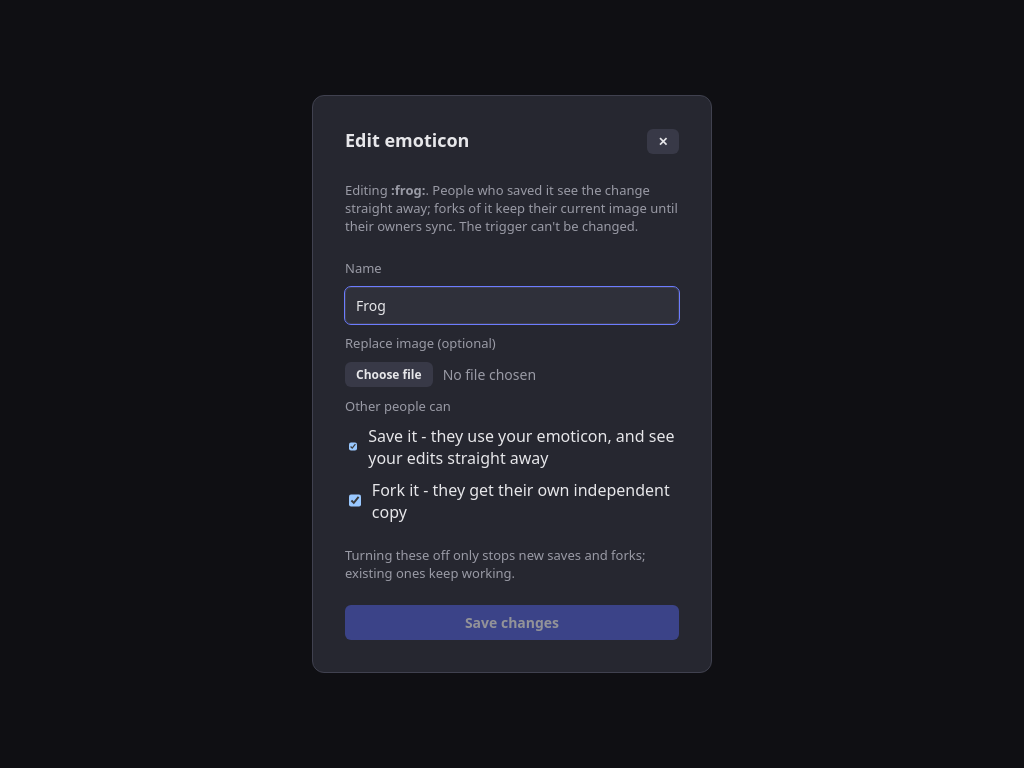
EditEmoticonModal › explains a failure and stays open so nothing is lost
Replace the text in the field showing "Frog" with "Big Frog" at (512, 305), box [345,287,679,324]
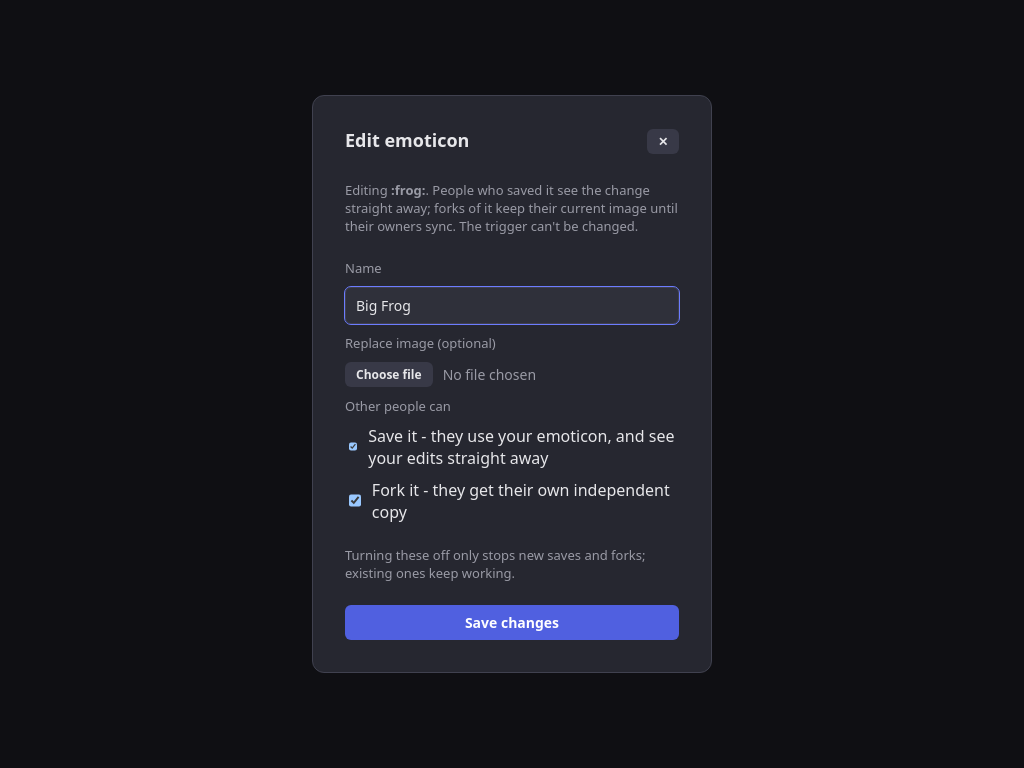
Click the button "Save changes" at (512, 623), box [345,605,679,640]
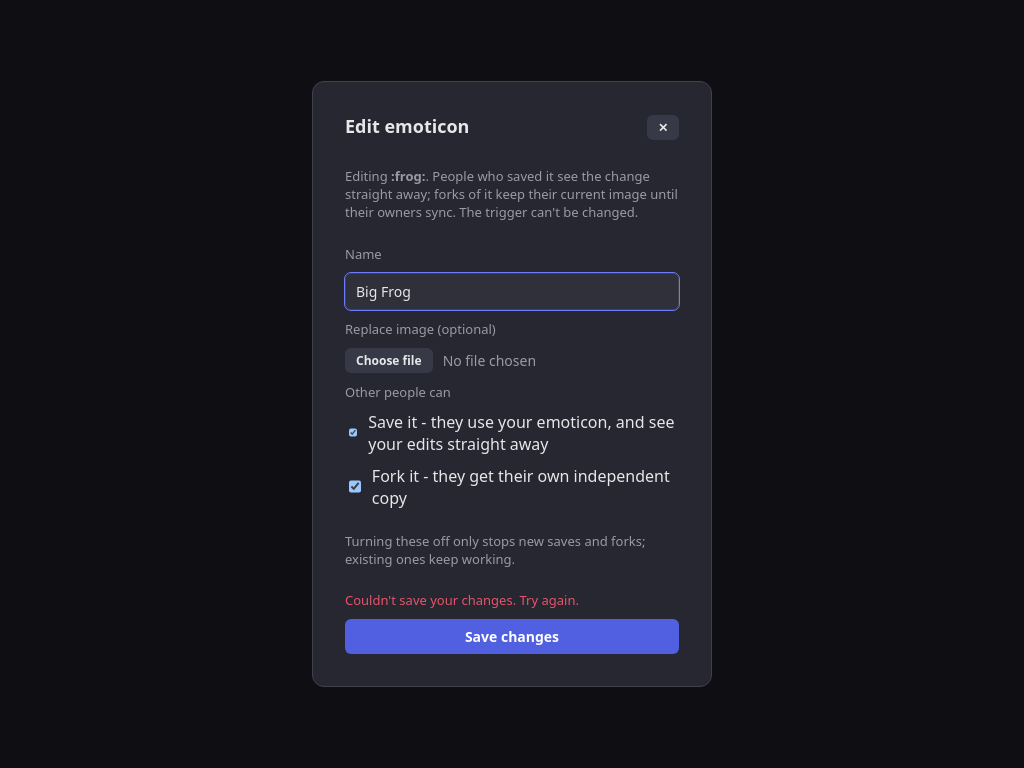
Expected: the text "Couldn't save your changes. Try again." is shown, [345,591,579,609]
